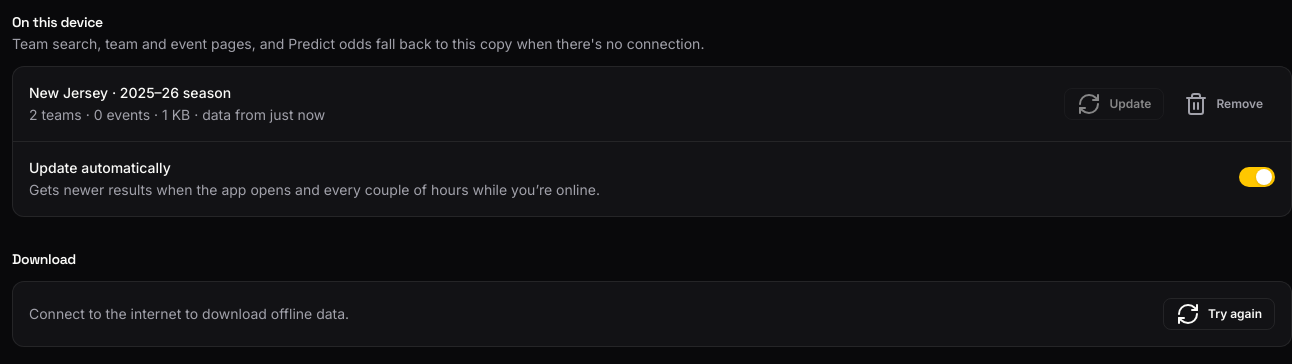
Settings → Offline data › removes the copy; offline, it says to connect
Expected: the text "Connect to the internet to download offline data." is shown, [29,304,349,324]
Expected: the button "Update" is disabled, [1064,88,1164,120]
Click the button "Remove". click: click(1224, 104)
box: [1172,88,1275,120]
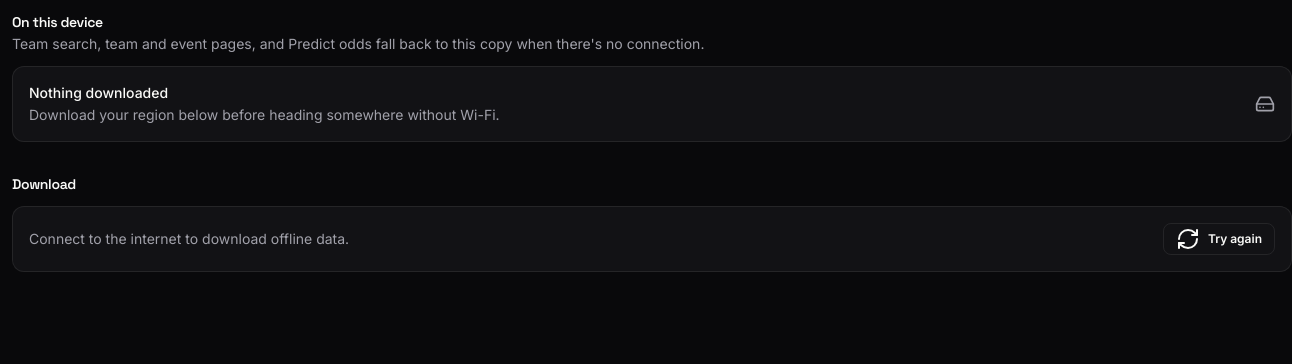
Expected: the text "Nothing downloaded" is shown, [29,84,168,101]
